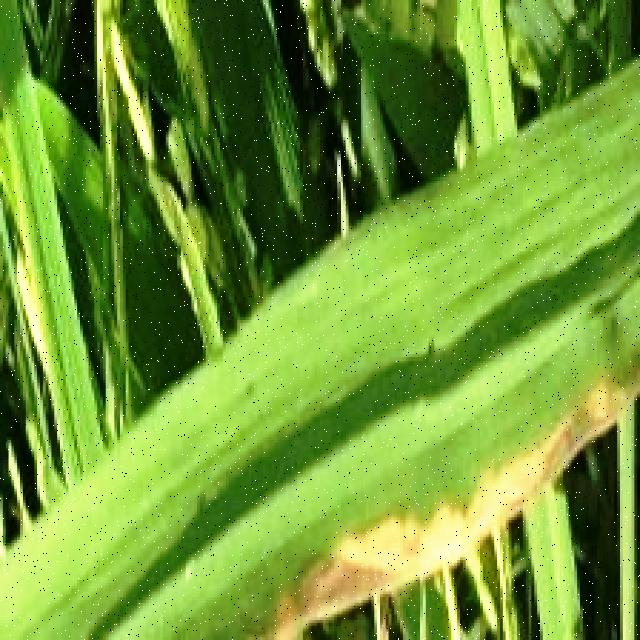unhealth: (228, 331, 640, 639)
